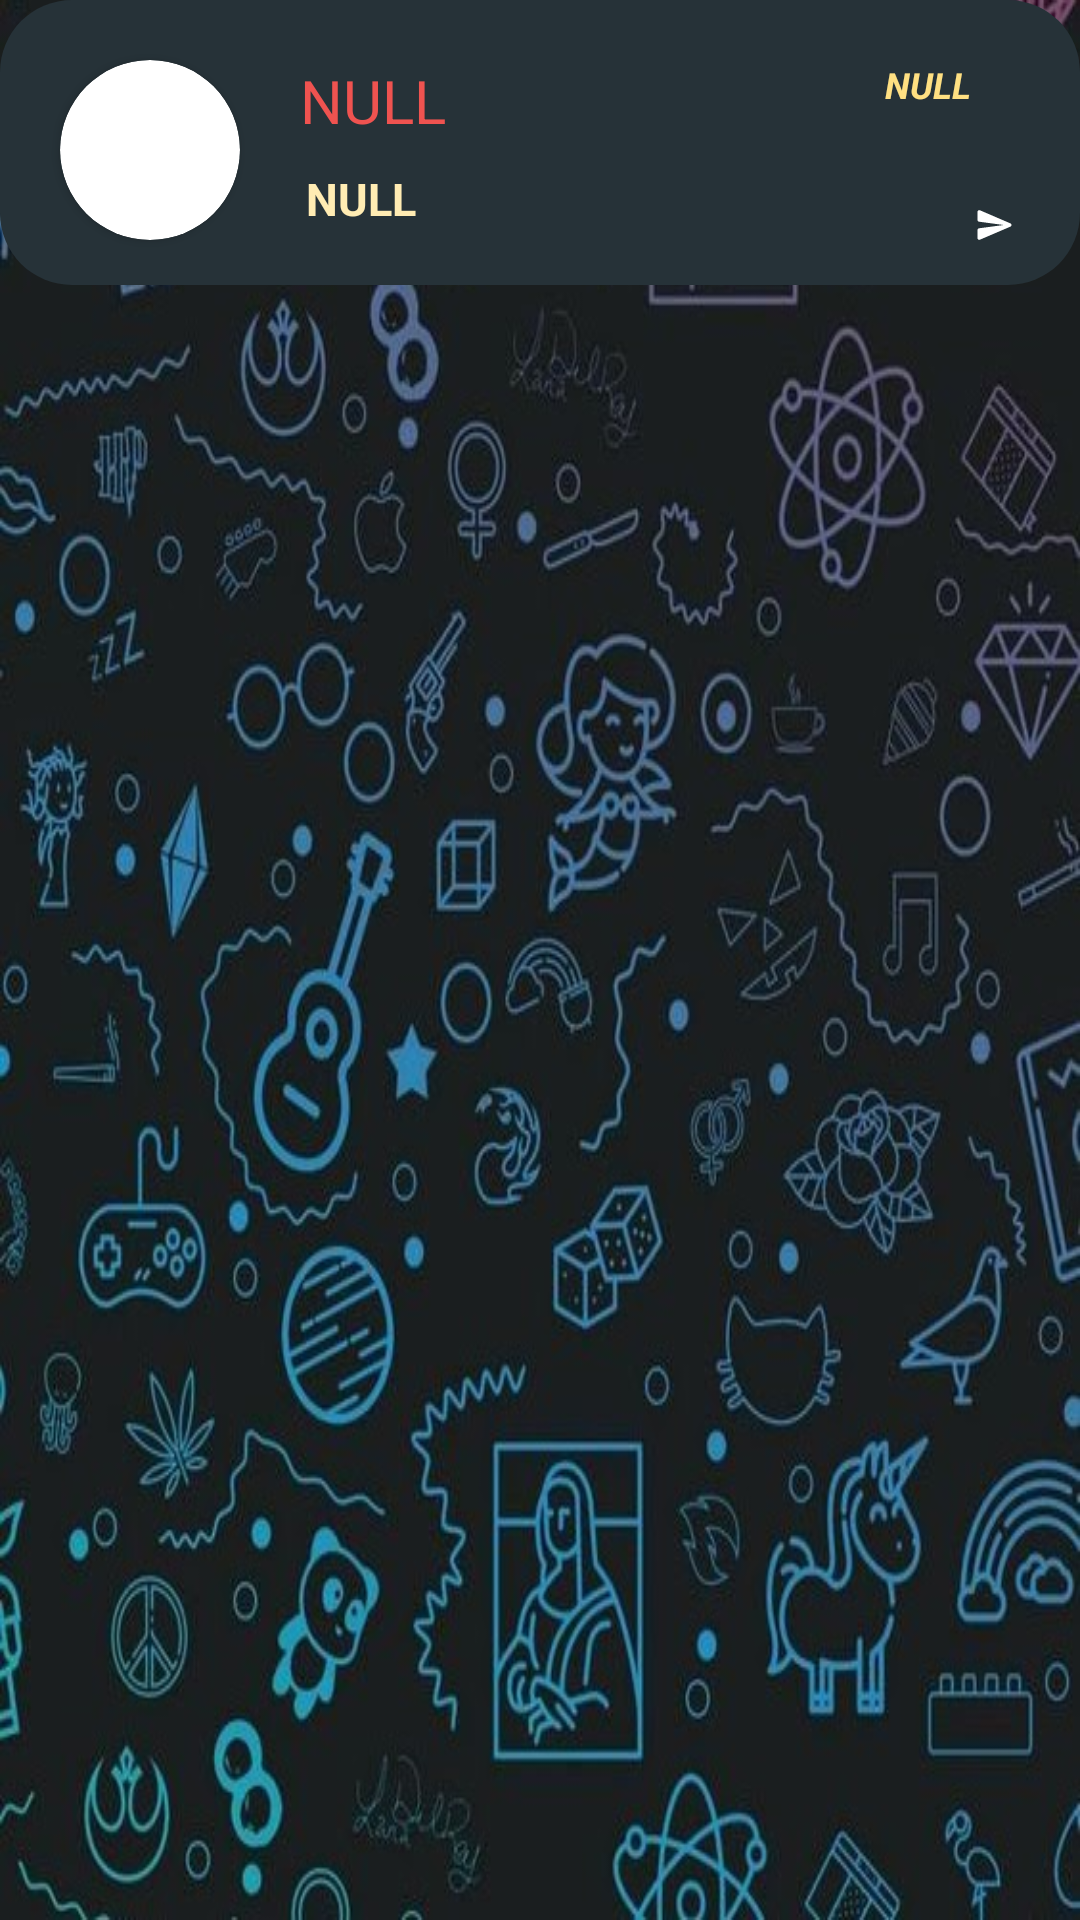

Screen size 1080 x 1920. Icon name, then its center in pixels as [x,y]:
send: [994,225]
